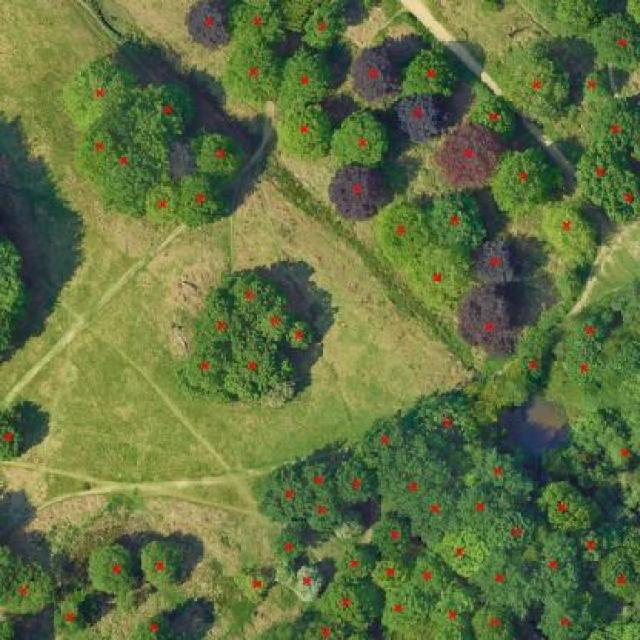tree: (61, 54, 139, 132), (217, 336, 303, 404), (486, 148, 568, 217), (503, 54, 577, 126), (472, 542, 542, 618), (95, 142, 163, 220), (410, 386, 484, 456), (459, 442, 536, 508), (431, 122, 504, 190), (0, 229, 35, 368), (131, 78, 197, 150), (0, 538, 60, 617), (454, 288, 518, 362), (326, 159, 397, 224), (251, 603, 375, 640), (528, 479, 610, 533), (424, 190, 491, 256), (374, 450, 448, 508), (221, 44, 288, 108), (274, 47, 338, 113), (542, 197, 600, 268), (402, 255, 468, 316), (448, 482, 528, 532), (341, 44, 407, 104), (315, 574, 380, 634), (370, 202, 430, 266), (525, 530, 581, 598), (272, 103, 336, 162), (584, 97, 640, 162), (431, 524, 492, 582), (334, 109, 392, 169), (532, 586, 596, 640), (586, 13, 640, 76), (429, 571, 478, 640), (228, 1, 289, 56), (578, 141, 628, 208), (250, 462, 304, 524), (466, 232, 525, 288), (175, 340, 227, 402), (401, 549, 457, 605), (136, 536, 187, 596), (509, 337, 557, 400), (398, 49, 460, 97), (181, 0, 236, 54), (300, 0, 355, 54), (467, 94, 522, 148), (558, 342, 613, 396), (595, 540, 640, 605), (390, 92, 445, 145), (173, 172, 225, 228), (376, 577, 422, 640), (192, 131, 246, 184), (85, 541, 137, 596), (358, 415, 414, 463), (407, 488, 464, 532), (223, 271, 274, 320), (368, 509, 415, 562), (250, 297, 298, 348), (330, 457, 381, 505), (277, 562, 332, 606), (481, 512, 541, 552), (328, 540, 381, 585), (74, 123, 118, 177), (300, 491, 351, 535), (194, 297, 241, 343), (468, 600, 520, 640), (53, 587, 92, 638), (604, 172, 639, 228), (598, 429, 640, 474), (230, 564, 276, 605), (267, 524, 308, 568), (292, 456, 337, 496), (572, 527, 612, 570), (570, 309, 612, 348), (370, 553, 412, 592), (127, 612, 184, 640), (279, 318, 319, 356), (145, 185, 178, 226), (0, 412, 26, 462), (579, 68, 616, 102)
